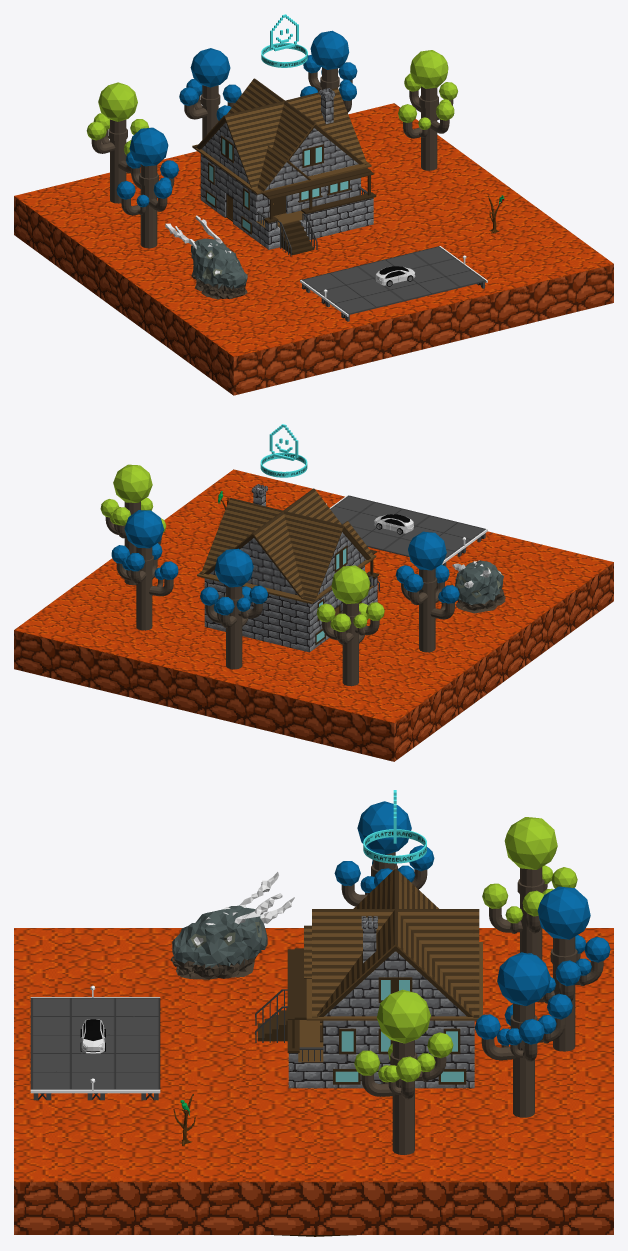
3 renders of one model, top to bottom at view 1: azimuth 30°, elevation 25°; view 2: azimuth 150°, elevation 25°; view 3: azimuth 270°, elevation 25°, orthographic. The views are drawn at different scales.
Parts seen in each view (by area): view 1: Cube.001, Cube.586, OBJRANDOM_METEORITE, TYPE_PREMIUM, VEHICLES_TESLA; view 2: Cube.001, Cube.586, OBJRANDOM_METEORITE, TYPE_PREMIUM, VEHICLES_TESLA; view 3: Cube.001, Cube.586, OBJRANDOM_METEORITE, TYPE_PREMIUM, VEHICLES_TESLA.
Part boxes in pixels (x1,y1,x2,y2): Cube.001: [14, 30, 613, 395]; Cube.586: [192, 78, 376, 256]; OBJRANDOM_METEORITE: [165, 215, 247, 299]; TYPE_PREMIUM: [261, 14, 307, 67]; VEHICLES_TESLA: [375, 266, 415, 286]; Cube.001: [14, 464, 613, 761]; Cube.586: [197, 484, 379, 652]; OBJRANDOM_METEORITE: [452, 560, 505, 613]; TYPE_PREMIUM: [260, 424, 307, 477]; VEHICLES_TESLA: [374, 514, 413, 534]; Cube.001: [14, 801, 613, 1234]; Cube.586: [255, 869, 482, 1088]; OBJRANDOM_METEORITE: [170, 872, 294, 979]; TYPE_PREMIUM: [363, 790, 426, 863]; VEHICLES_TESLA: [80, 1019, 105, 1053].
Size of the model in its own units: 4000 by 2476 by 4000.
36 materials, 6 textured.
